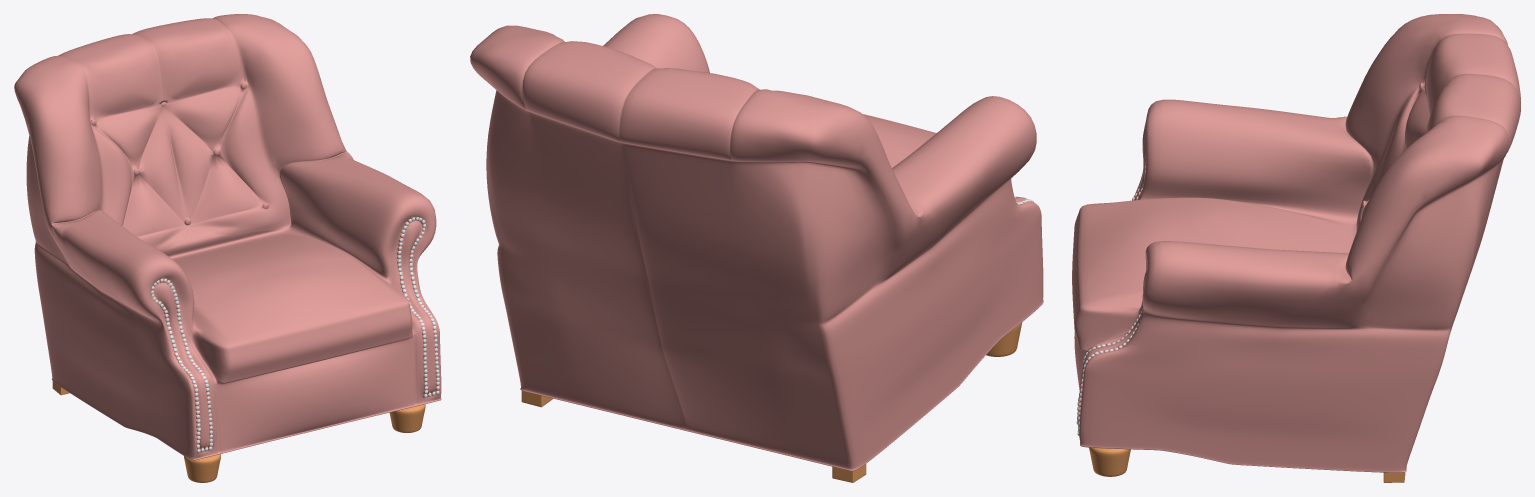
3 renders of one model, left to right at view 1: azimuth 30°, elevation 25°; view 2: azimuth 150°, elevation 25°; view 3: azimuth 270°, elevation 25°, orthographic. The views are drawn at different scales.
Visible parts, largest first — view 1: Chair; view 2: Chair; view 3: Chair.
Boxes of the visible parts, left/top/right/bottom form: Chair: left=14, top=14, right=441, bottom=482; Chair: left=470, top=14, right=1043, bottom=482; Chair: left=1072, top=14, right=1520, bottom=482.
Bounding box in the file's own units: 20.07 × 18.92 × 22.48.
